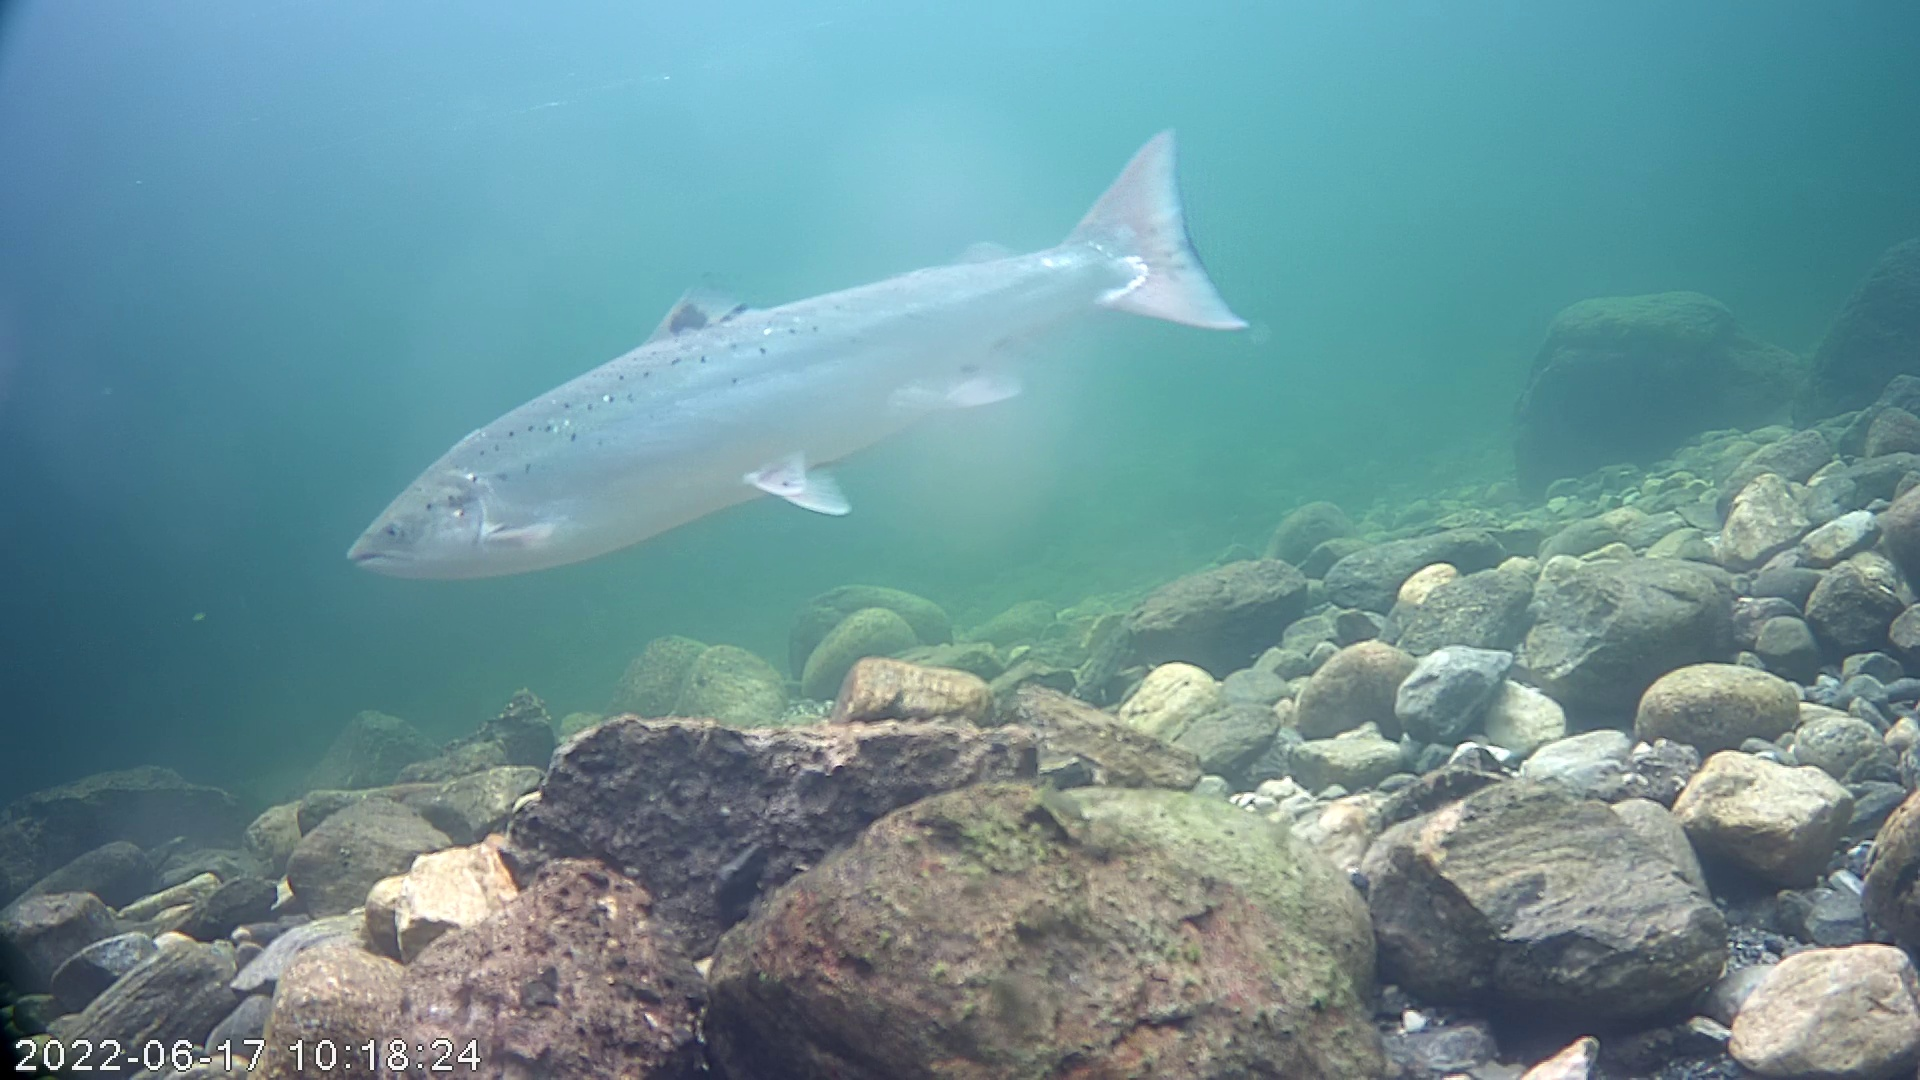salmon: (339, 121, 1253, 585)
